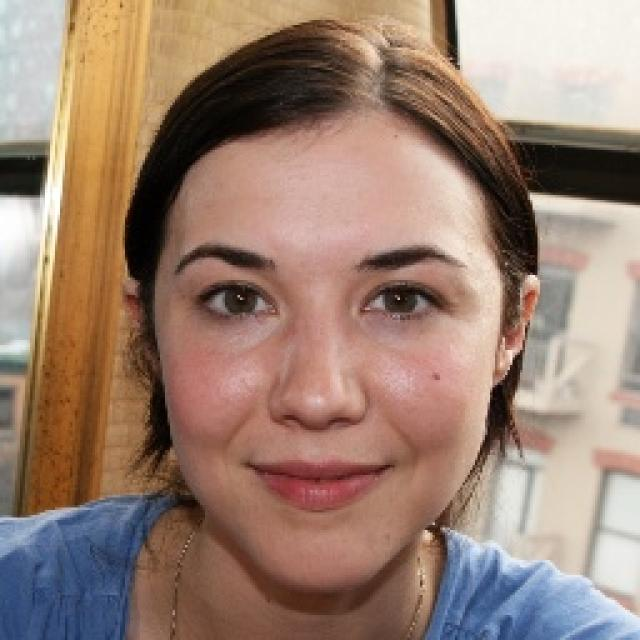earlobe: (491, 345, 522, 387)
eye: (193, 283, 277, 319), (364, 284, 443, 321)
nose: (274, 414, 362, 455)
wholeear: (492, 273, 540, 388), (120, 275, 164, 377)
